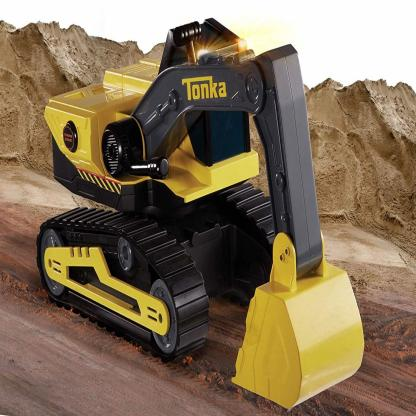excavator: (36, 7, 361, 392)
